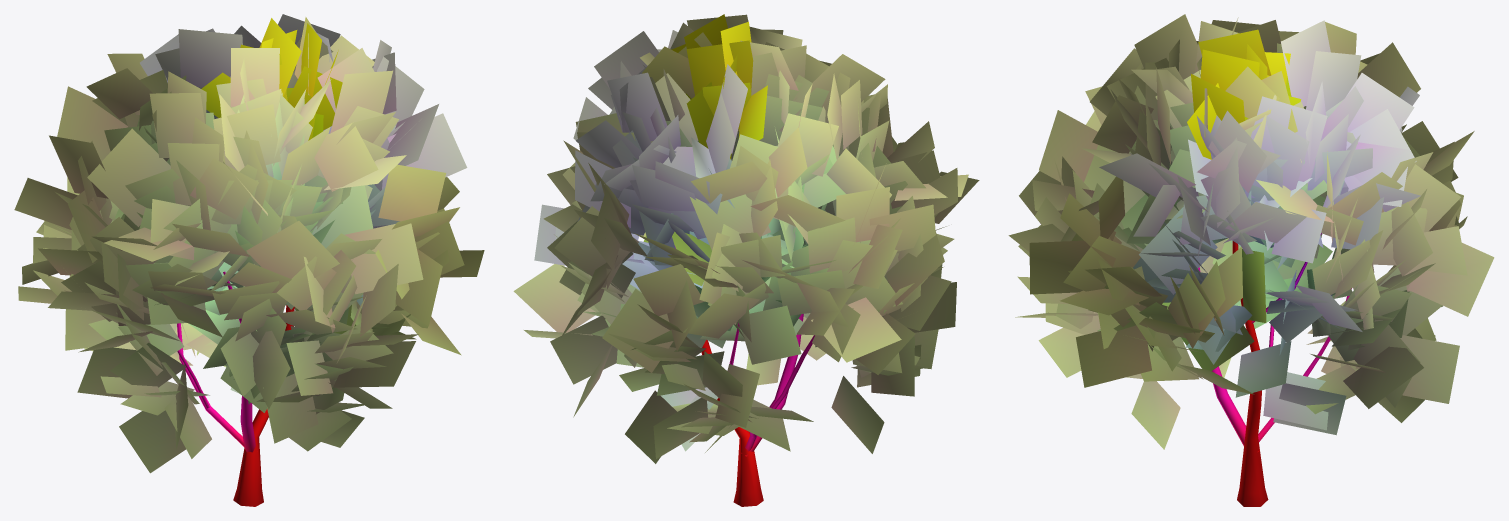
Rendered from elm_b_lod1.glb.
3 views of the same model, side by side, from view 1: azimuth 30°, elevation 25°; view 2: azimuth 150°, elevation 25°; view 3: azimuth 270°, elevation 25° (orthographic). The views are drawn at different scales.
Parts seen in each view (by area): view 1: elm_b_lod1; view 2: elm_b_lod1; view 3: elm_b_lod1.
Part boxes in pixels (x1,y1,x2,y2): elm_b_lod1: (14, 14, 484, 506); elm_b_lod1: (513, 14, 979, 506); elm_b_lod1: (1008, 14, 1494, 506).
Bounding box in the file's own units: 10.5 × 11.91 × 10.82.
